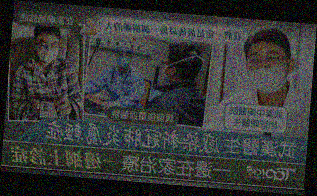with_mask: (245, 46, 289, 94), (35, 38, 59, 64), (115, 51, 131, 68), (161, 59, 172, 83)
